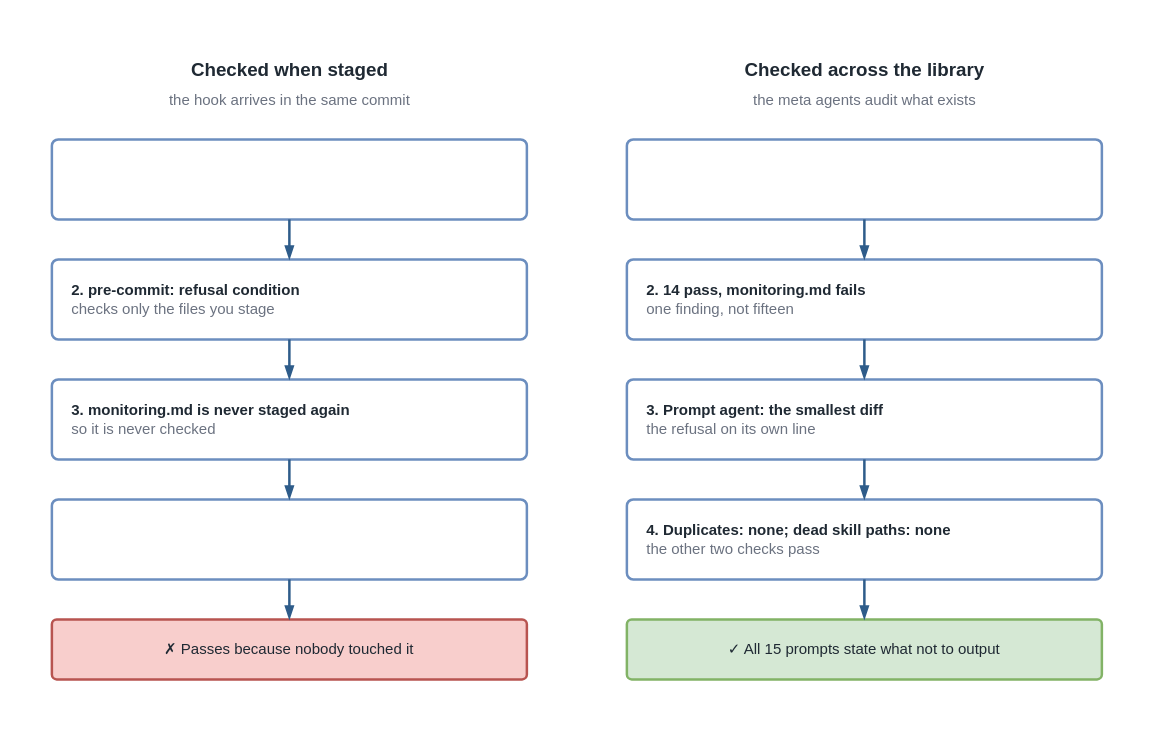
This 1153x730 diagram has some shape labels left out. Here are the shapes that lost their labels. From the top down, the centre of each, then its label:
point 289,179: 1. 15 prompts in .ai/prompts/ written over weeks, by several people
point 863,179: 1. Run the check over every prompt once not only what is staged today
point 289,539: 4. Its only refusal is mid-sentence line 18: "Never anything that…"
